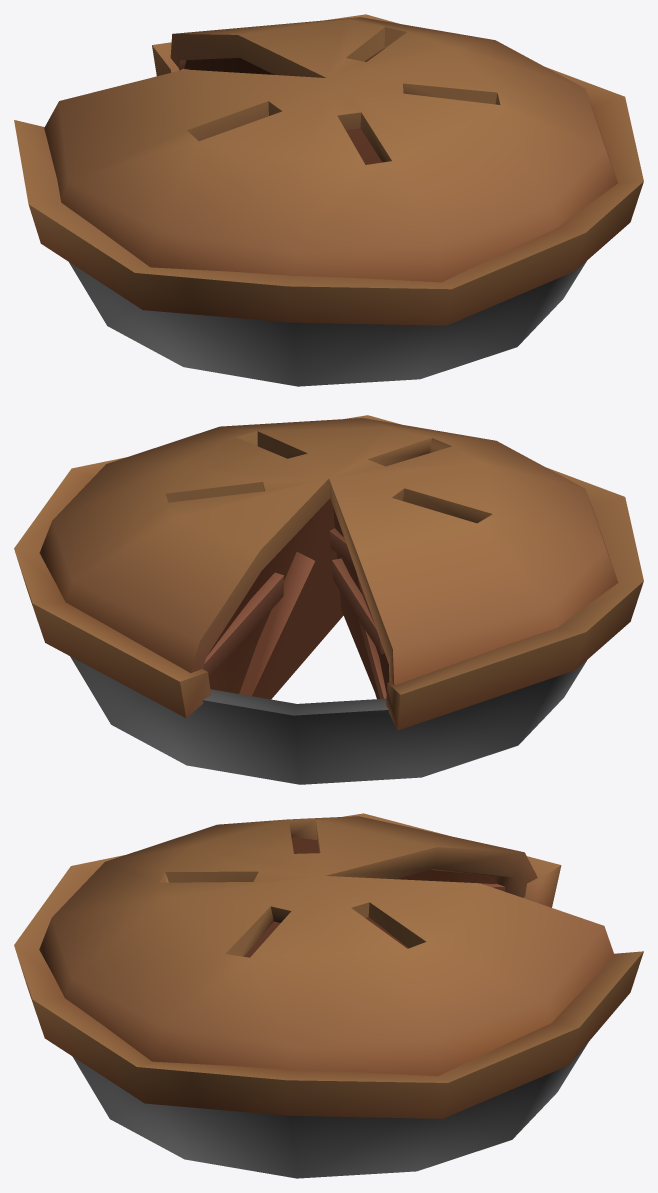
File: hat_applepie.glb
3 renders of one model, top to bottom at view 1: azimuth 30°, elevation 25°; view 2: azimuth 150°, elevation 25°; view 3: azimuth 270°, elevation 25°, orthographic.
Parts seen in each view (by area): view 1: hat_applepie; view 2: hat_applepie; view 3: hat_applepie.
Boxes of the visible parts, x1,y1,x2,y2 form: hat_applepie: (14, 14, 643, 386); hat_applepie: (14, 415, 643, 784); hat_applepie: (14, 813, 643, 1178).
Size of the model in its own units: 0.3586 by 0.1281 by 0.3577.
